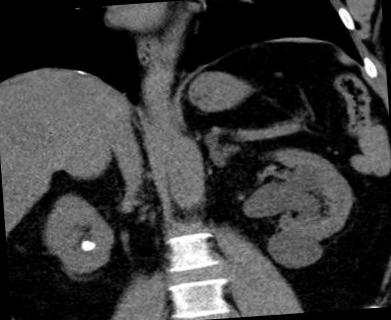Tas_Var: (74, 238, 102, 254)
